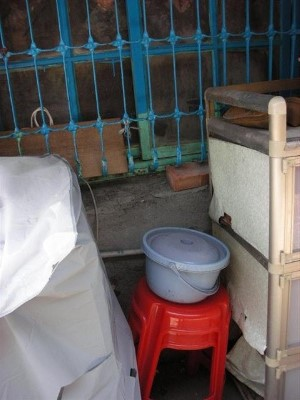bowl: (140, 225, 231, 304)
